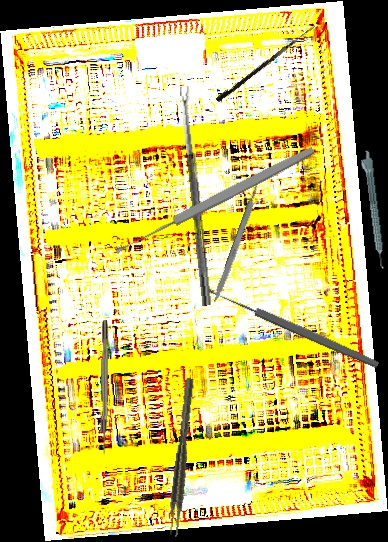Handpiece: (358, 149, 386, 270)
Hook Surgical: (215, 21, 316, 104), (99, 319, 110, 456)
Scalpel Handle: (212, 184, 262, 304)
Surgical Spoon: (113, 144, 316, 257), (201, 282, 381, 371), (179, 86, 213, 306)
Tissue Forceps: (166, 377, 199, 538)
